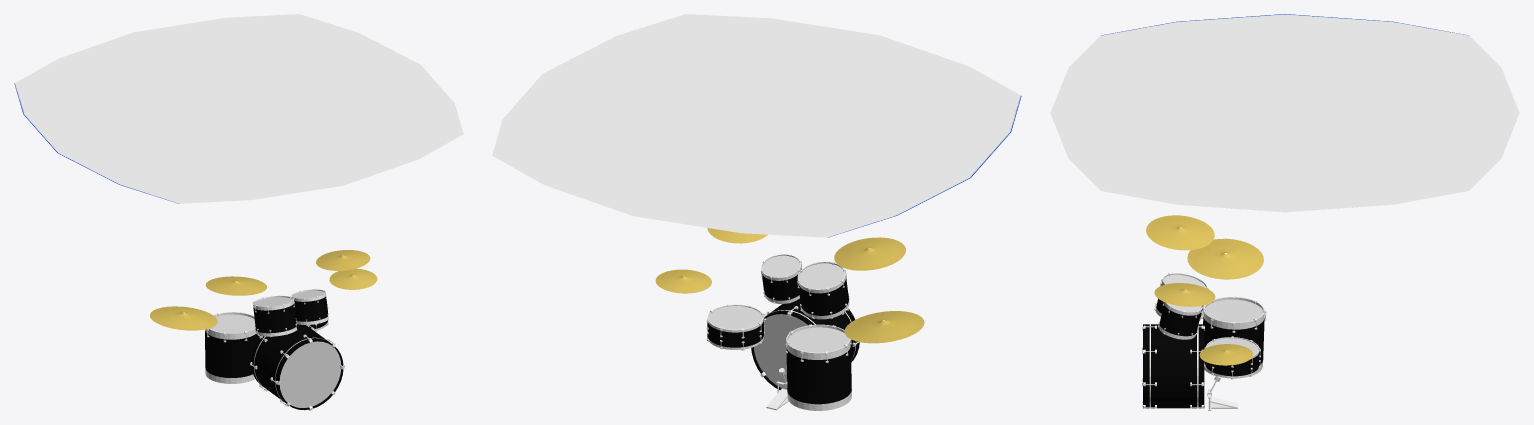
The model's file is DRUM복구4차.glb.
The picture shows the model from 3 angles, left to right: view 1: azimuth 30°, elevation 25°; view 2: azimuth 150°, elevation 25°; view 3: azimuth 270°, elevation 25°; orthographic projection. The views are drawn at different scales.
Visible parts, largest first — view 1: Plane.001, kick.002, tom2.004, tom2, Circle.002, tom1, Circle.001, Circle, Circle.004; view 2: Plane.001, tom2.004, kick.002, tom2, snare, Circle.002, Circle.001, tom1, Circle.004, Circle; view 3: Plane.001, kick.002, tom2.004, Circle.002, Circle.001, tom1, snare, Circle, Circle.004, tom2.
Part boxes in pixels (left/top/right/bottom): Plane.001: left=14, top=14, right=463, bottom=203; kick.002: left=250, top=324, right=344, bottom=410; tom2.004: left=205, top=311, right=259, bottom=383; tom2: left=252, top=295, right=297, bottom=337; Circle.002: left=150, top=306, right=217, bottom=330; tom1: left=291, top=289, right=328, bottom=325; Circle.001: left=205, top=276, right=266, bottom=295; Circle: left=316, top=250, right=370, bottom=270; Circle.004: left=329, top=268, right=377, bottom=289; Plane.001: left=492, top=14, right=1021, bottom=237; tom2.004: left=785, top=324, right=851, bottom=410; kick.002: left=751, top=298, right=859, bottom=389; tom2: left=797, top=261, right=849, bottom=319; snare: left=706, top=304, right=764, bottom=350; Circle.002: left=844, top=311, right=924, bottom=343; Circle.001: left=834, top=237, right=905, bottom=270; tom1: left=760, top=254, right=802, bottom=303; Circle.004: left=655, top=269, right=711, bottom=293; Circle: left=707, top=228, right=767, bottom=243; Plane.001: left=1050, top=14, right=1519, bottom=212; kick.002: left=1142, top=324, right=1204, bottom=408; tom2.004: left=1202, top=296, right=1266, bottom=377; Circle.002: left=1187, top=238, right=1263, bottom=279; Circle.001: left=1146, top=215, right=1214, bottom=250; tom1: left=1158, top=302, right=1203, bottom=339; snare: left=1204, top=336, right=1260, bottom=379; Circle: left=1154, top=283, right=1215, bottom=306; Circle.004: left=1199, top=344, right=1253, bottom=365; tom2: left=1154, top=273, right=1208, bottom=320.
Bounding box in the file's own units: 3.11 × 2.11 × 3.11.
6 materials, 1 textured.
